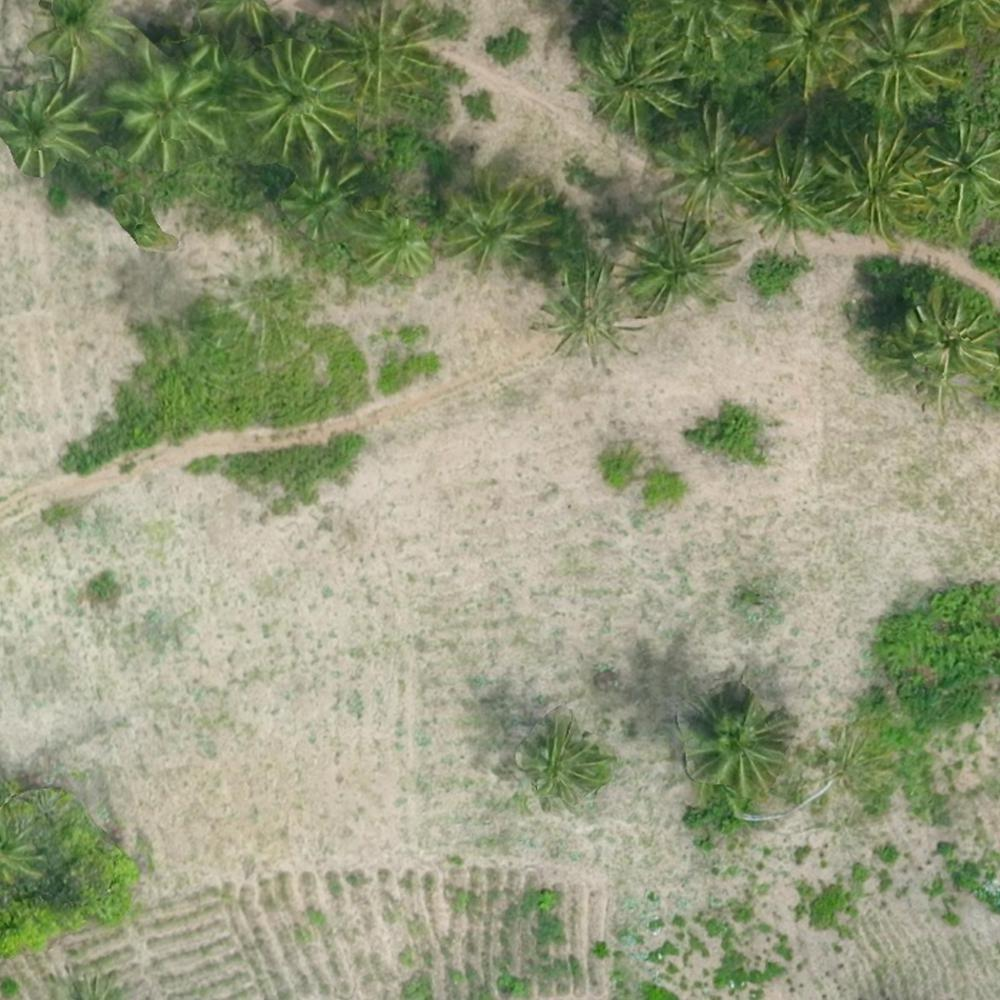Palm: (104, 45, 224, 164), (243, 39, 349, 156), (658, 104, 764, 218), (851, 1, 965, 106), (678, 690, 785, 795), (585, 31, 692, 129), (822, 126, 917, 234), (622, 211, 730, 301), (896, 289, 997, 385), (449, 182, 551, 275), (765, 1, 865, 91), (742, 135, 827, 239), (537, 268, 637, 356), (2, 76, 93, 168), (914, 119, 1000, 214), (527, 715, 605, 796)
